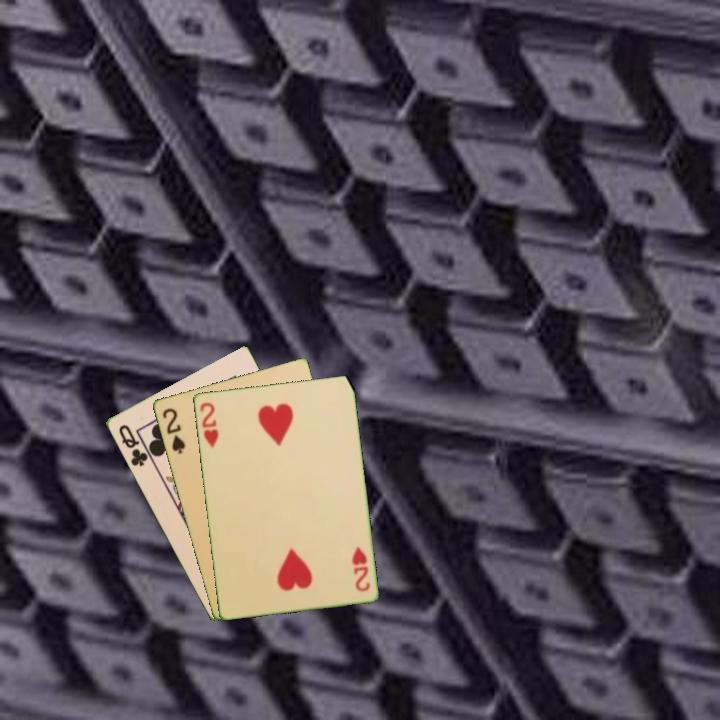2h: (196, 398, 221, 450), (348, 543, 373, 594)
2s: (158, 404, 188, 457)
Qc: (115, 421, 154, 469)
